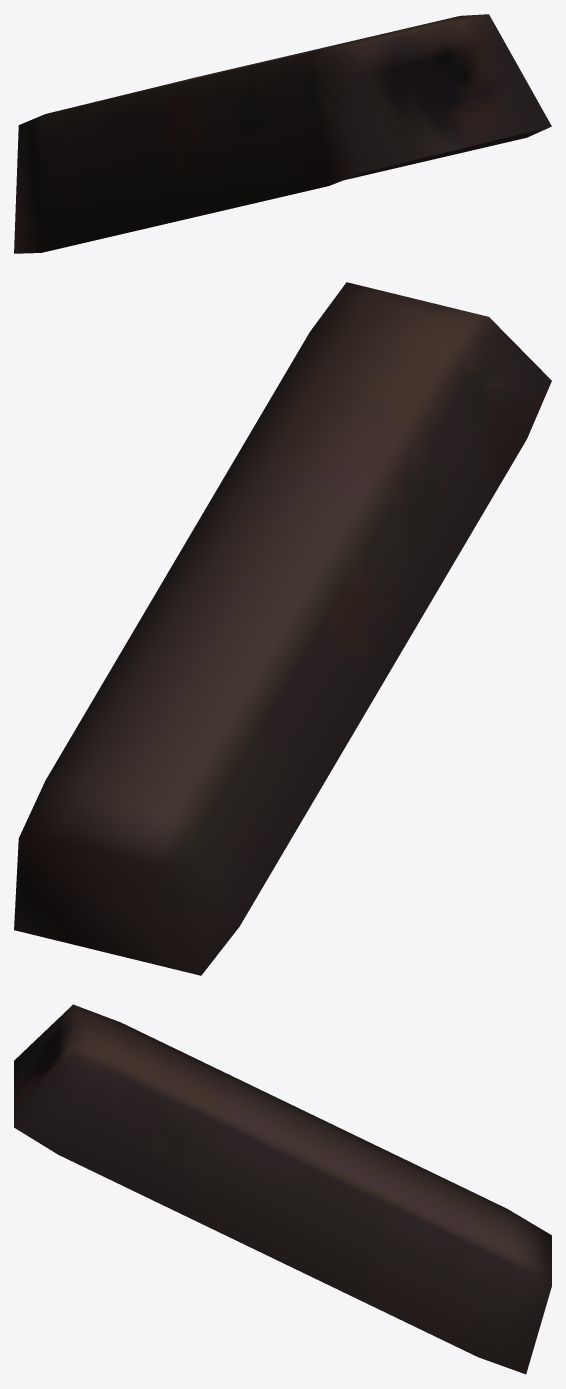
Rendered from power_generator_flesher_handle.DAE.
3 renders of one model, top to bottom at view 1: azimuth 30°, elevation 25°; view 2: azimuth 150°, elevation 25°; view 3: azimuth 270°, elevation 25°, orthographic. The views are drawn at different scales.
Visible parts, largest first — view 1: power_generator_flesher_handle; view 2: power_generator_flesher_handle; view 3: power_generator_flesher_handle.
Part boxes in pixels (left/top/right/bottom): power_generator_flesher_handle: left=14, top=14, right=551, bottom=253; power_generator_flesher_handle: left=14, top=282, right=551, bottom=975; power_generator_flesher_handle: left=14, top=1004, right=551, bottom=1374.
Bounding box in the file's own units: 3.02 × 9.74 × 6.22.
